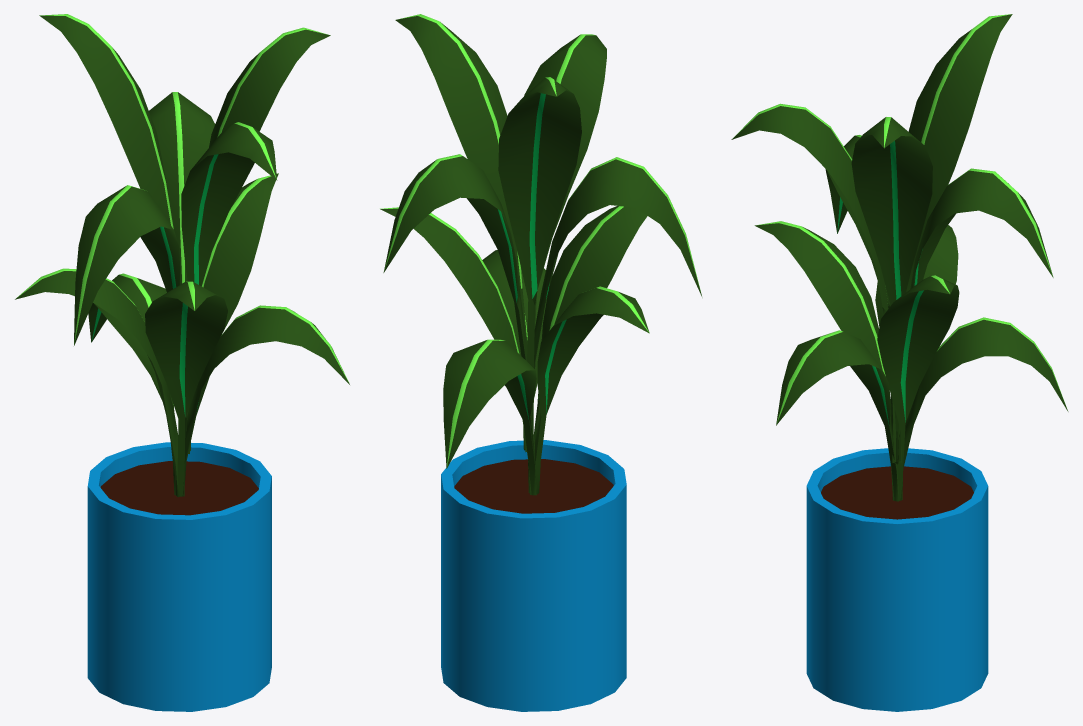
The model's file is Plant_03.fbx.
The picture shows the model from 3 angles, left to right: view 1: azimuth 30°, elevation 25°; view 2: azimuth 150°, elevation 25°; view 3: azimuth 270°, elevation 25°; orthographic projection. The views are drawn at different scales.
Visible parts, largest first — view 1: Plant03; view 2: Plant03; view 3: Plant03.
Boxes of the visible parts, x1,y1,x2,y2 form: Plant03: [15, 14, 349, 711]; Plant03: [380, 14, 702, 711]; Plant03: [731, 14, 1068, 711].
Bounding box in the file's own units: 61.42 × 132 × 64.46.
